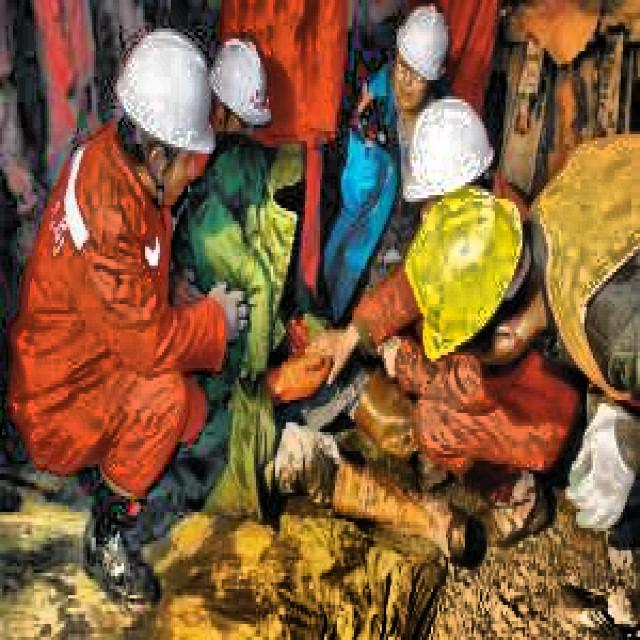helmet: (380, 163, 544, 403), (115, 22, 222, 198), (395, 90, 499, 227), (205, 35, 277, 147), (394, 6, 456, 112)
